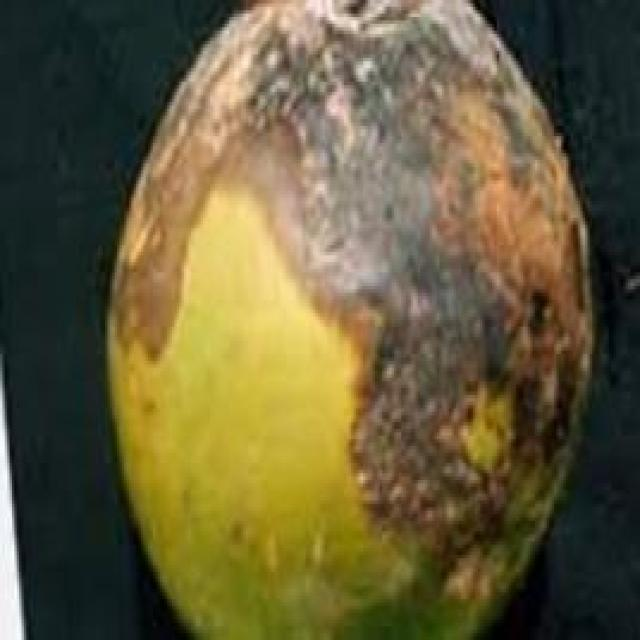damaged: (107, 0, 592, 637)
